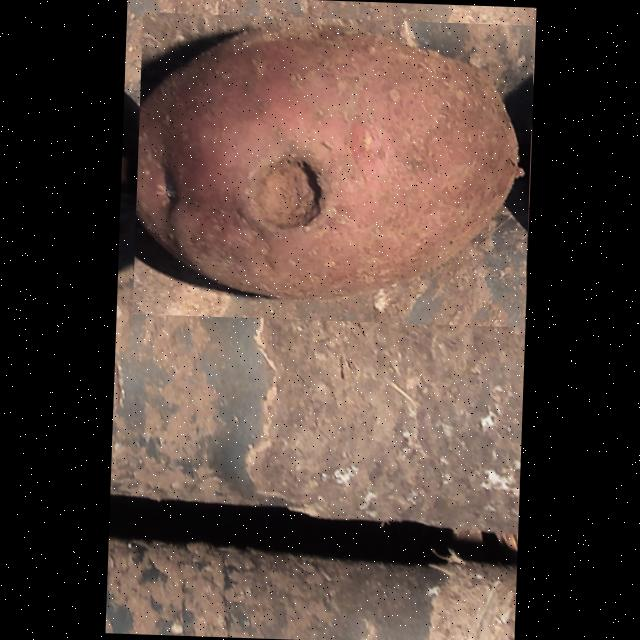Diseased-fungal potato: (132, 12, 534, 327)
